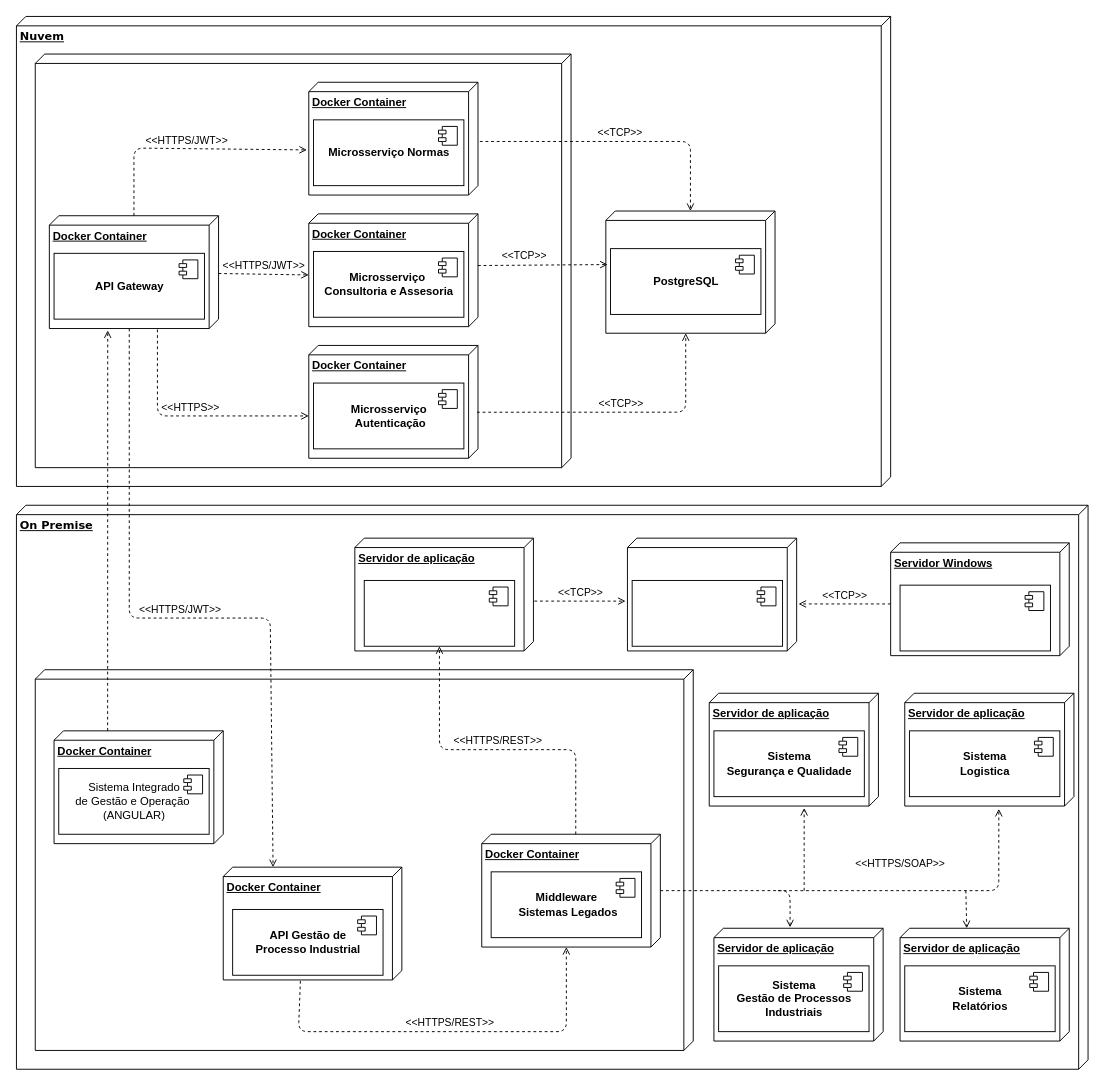
The diagram is 1105 pixels wide and 1086 high, and some of its shapes have lost their labels. The box of each missing label's shape, as (x1, y1, x2, y2) in pixels:
Data Warehouse: (627, 537, 797, 651)
Kubernetes: (34, 669, 693, 1050)
Oracle: (631, 580, 783, 646)
Servidor de banco de dados: (605, 210, 775, 333)
Serviço Windows: (899, 584, 1050, 651)
Sistema Monitoramento e Vendas: (363, 580, 515, 646)
